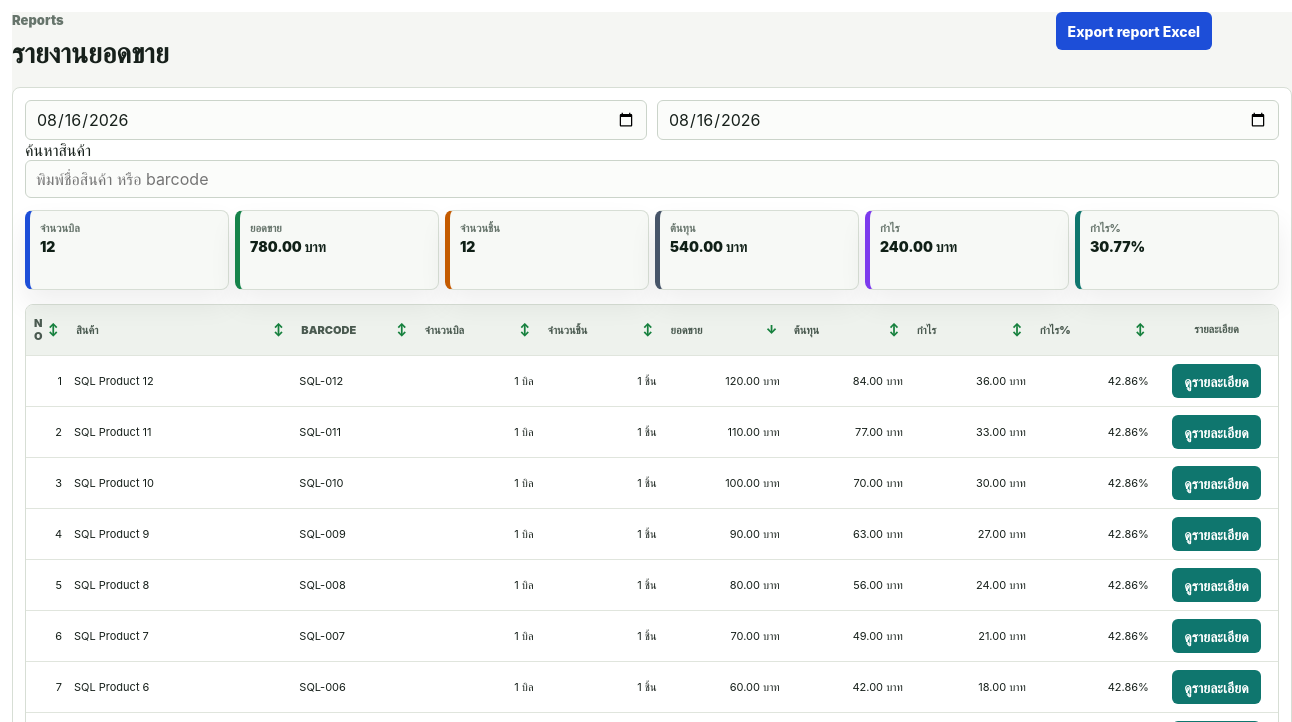
Test case: backend connected report pages › shows all product sales rows without pagination and sorts the table
This screenshot has width=1292, height=722.
Expected: the text "SQL Product 12" is shown, [68,356,293,407]
Click the button with aria-label "ยอดขาย · เรียงจากมากไปน้อย": point(724, 330) [669,314,780,346]
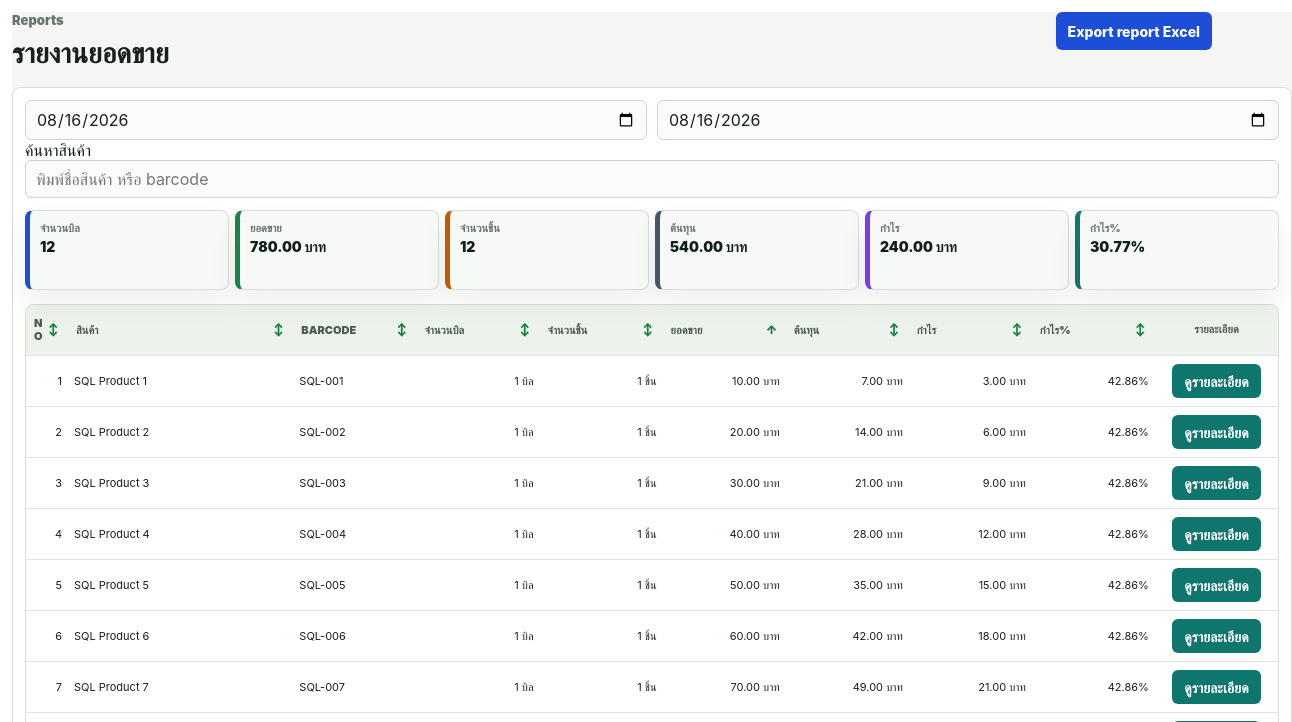
Expected: the row that starts with "SQL Product 1" is shown, [74,374,147,388]
Click the button with aria-label "ยอดขาย · เรียงจากน้อยไปมาก": point(724, 330) [669,314,780,346]
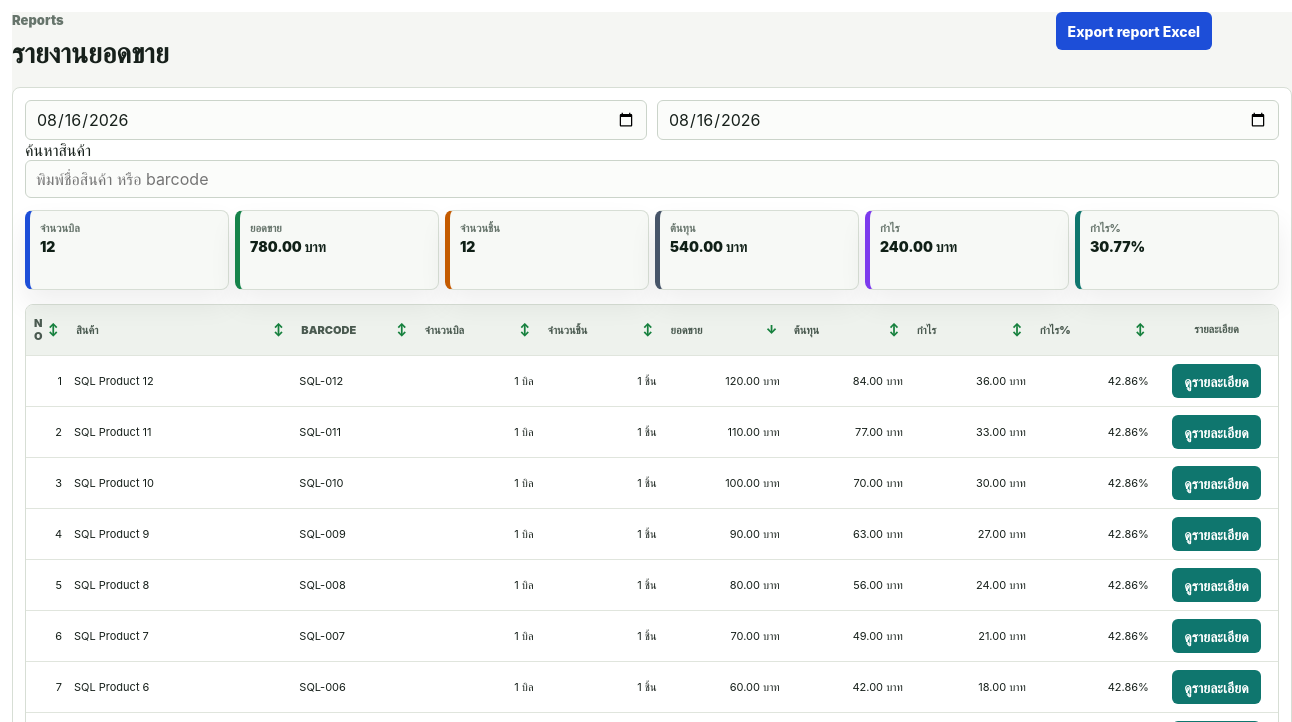
Result: the row that starts with "SQL Product 12" is shown at [74,374,154,388]
